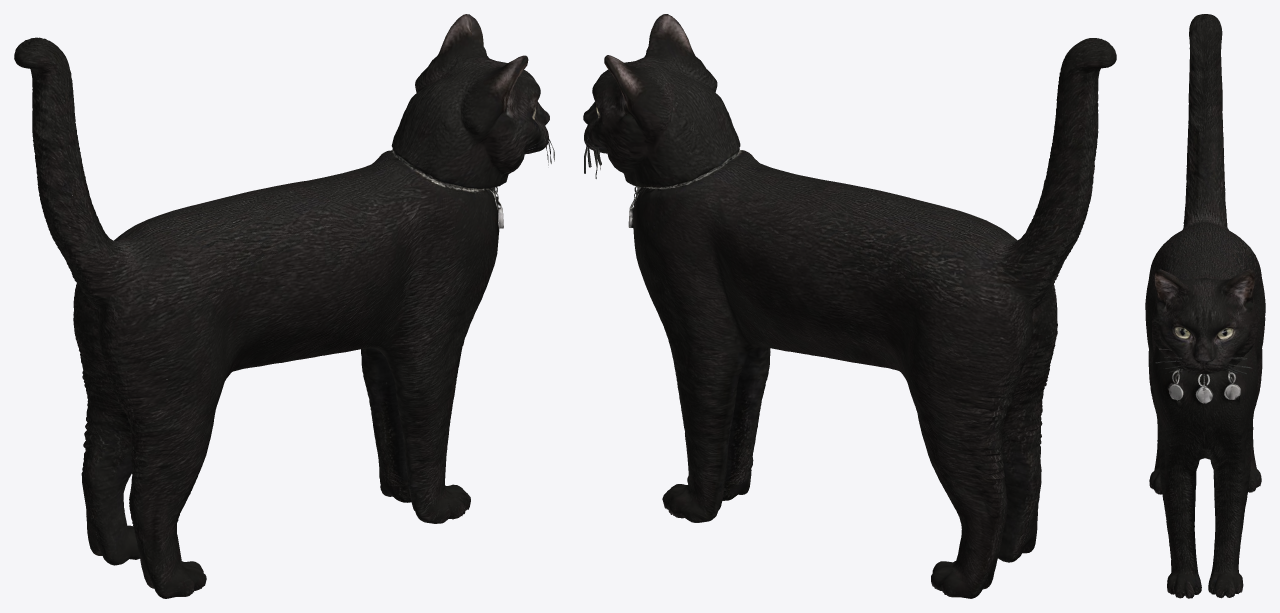
Rendered from INDYBONES.glb.
The picture shows the model from 3 angles, left to right: view 1: azimuth 30°, elevation 25°; view 2: azimuth 150°, elevation 25°; view 3: azimuth 270°, elevation 25°; orthographic projection. The views are drawn at different scales.
Visible parts, largest first — view 1: tripo_node_0fc2f3d3-f58f-4ea1-8b45-84f8532534df; view 2: tripo_node_0fc2f3d3-f58f-4ea1-8b45-84f8532534df; view 3: tripo_node_0fc2f3d3-f58f-4ea1-8b45-84f8532534df.
Part boxes in pixels (x1,y1,x2,y2): tripo_node_0fc2f3d3-f58f-4ea1-8b45-84f8532534df: (14,14,554,598); tripo_node_0fc2f3d3-f58f-4ea1-8b45-84f8532534df: (583,14,1116,598); tripo_node_0fc2f3d3-f58f-4ea1-8b45-84f8532534df: (1145,14,1265,598).
Bounding box in the file's own units: 0.9911 × 0.9998 × 0.253.
Materials: 1 (1 with a texture image).
